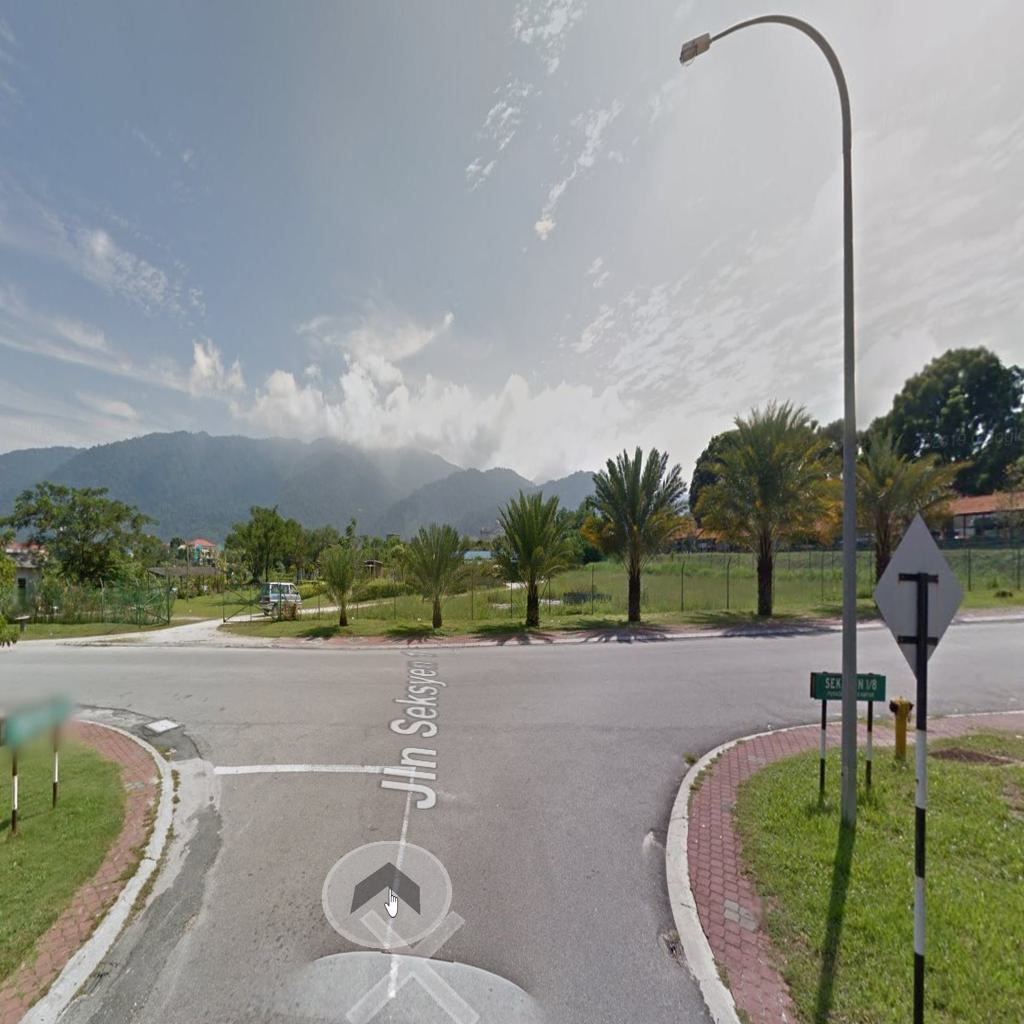Junction: (628, 618, 1016, 820), (8, 627, 291, 837)
